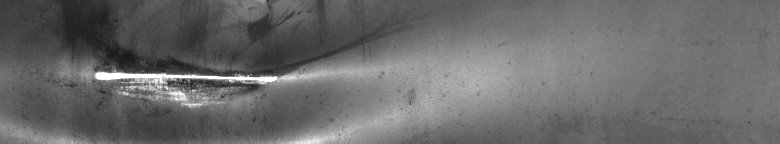ke: (22, 4, 415, 136)
